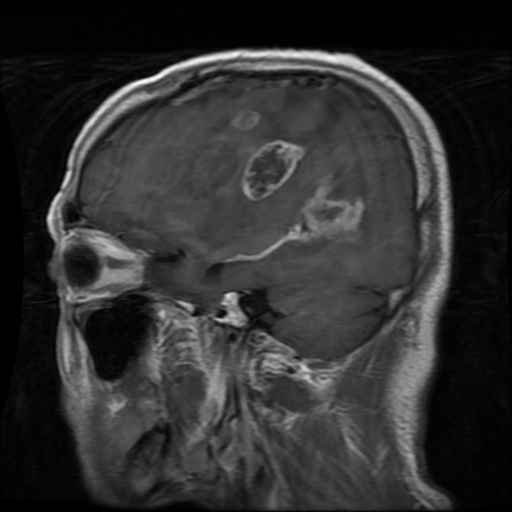glioma: (243, 139, 307, 200)
